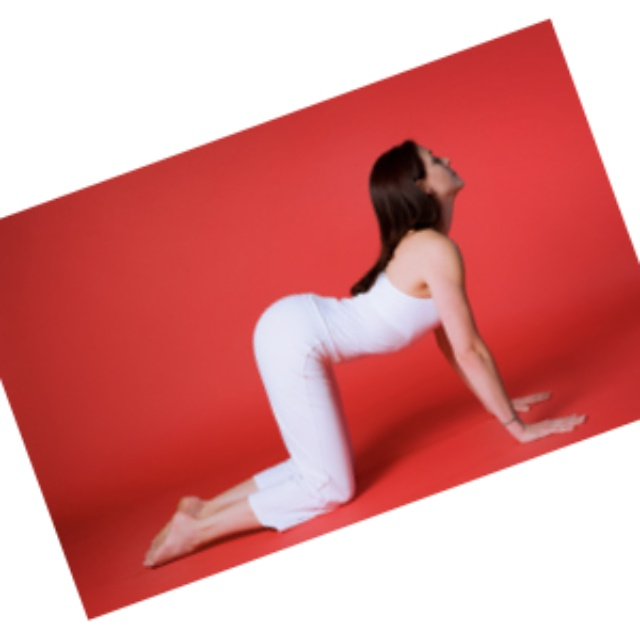Cow_Pose: (138, 136, 589, 571)
